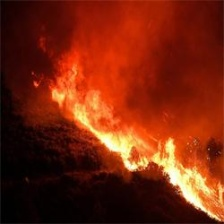fire: (40, 67, 224, 222)
